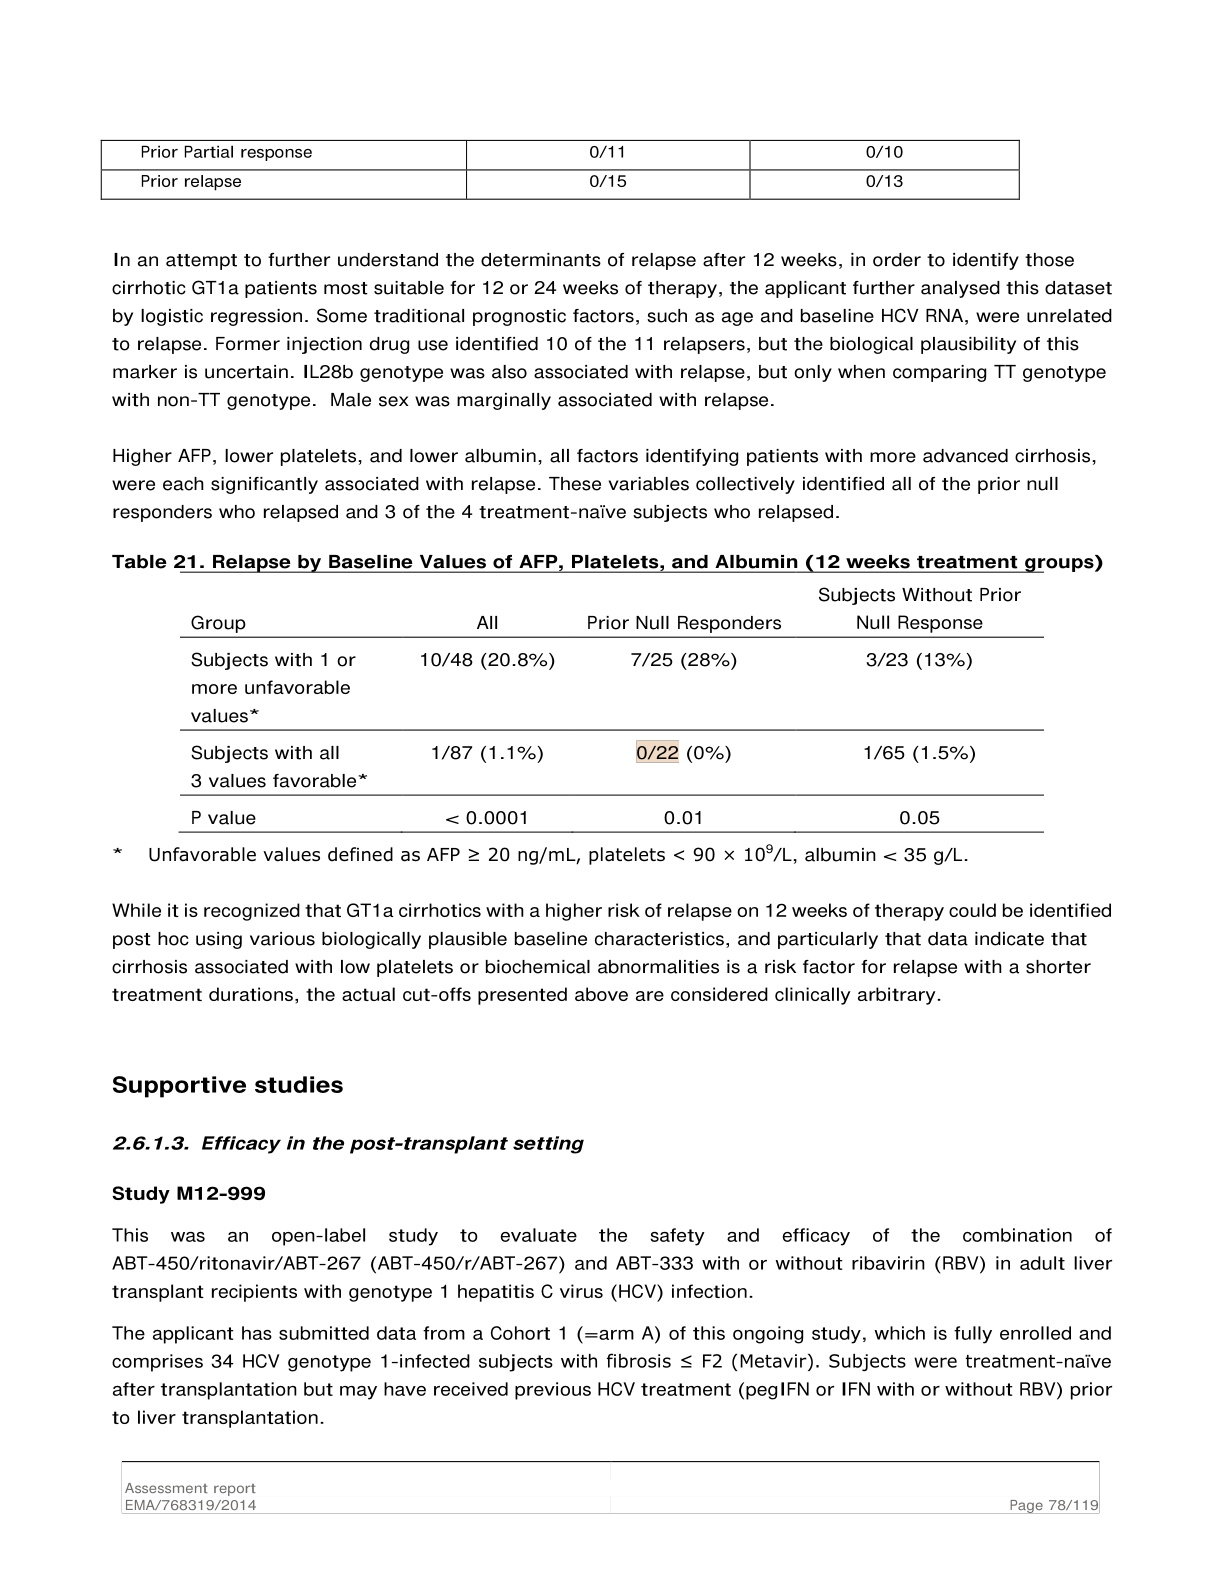full_lined: (99, 138, 1021, 201)
partial_lined: (177, 570, 1048, 836)
